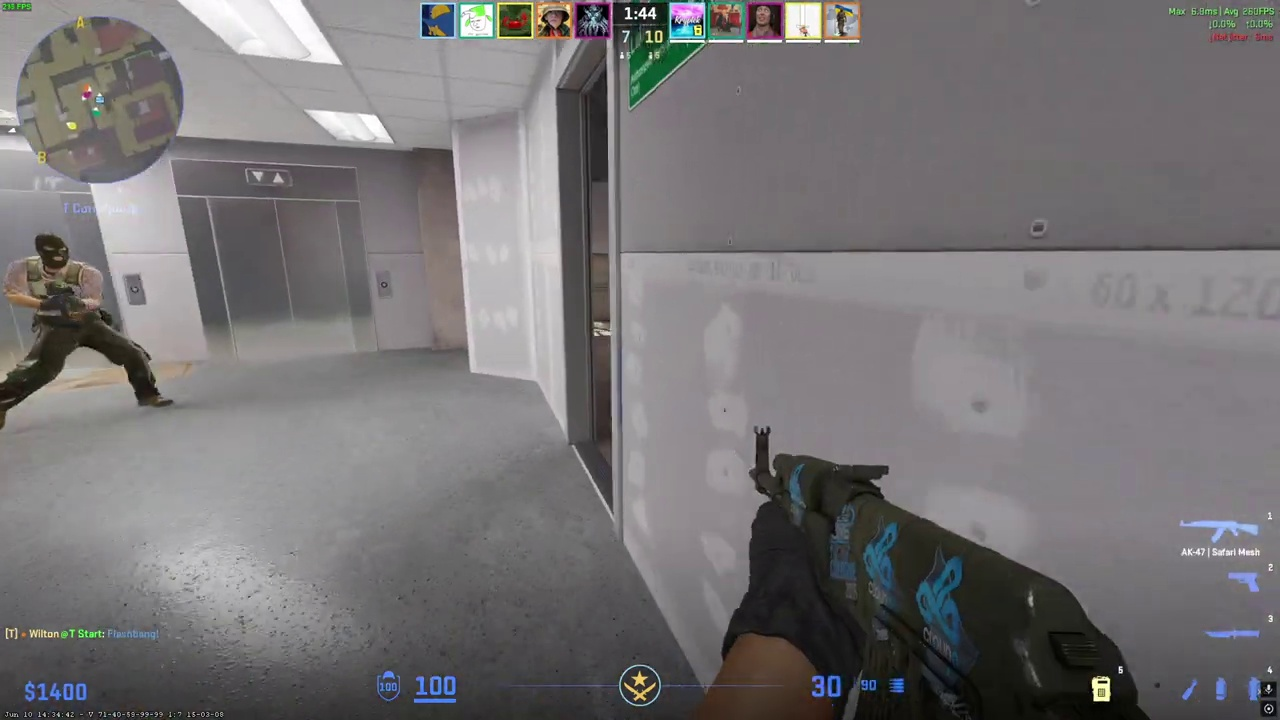Terrorist: (0, 231, 146, 430)
